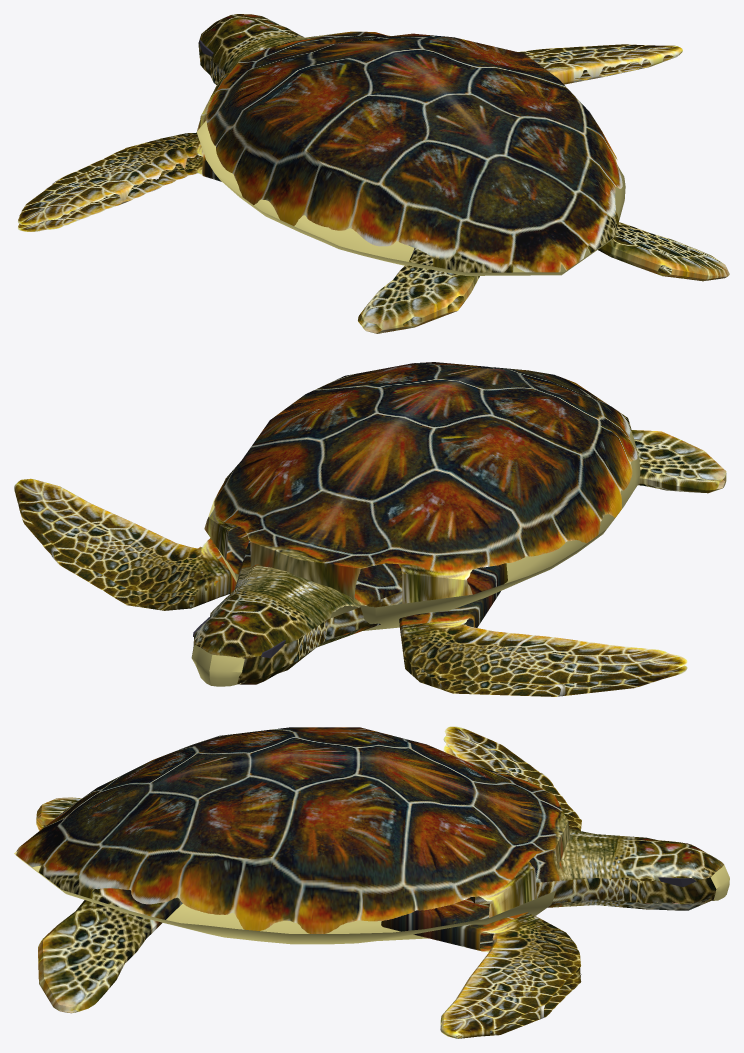
Rendered from AR_Species_GreenSeaTurtle.fbx.
3 views of the same model, one above another, from view 1: azimuth 30°, elevation 25°; view 2: azimuth 150°, elevation 25°; view 3: azimuth 270°, elevation 25° (orthographic).
Parts seen in each view (by area): view 1: Top Shell.001, L_Hand.001, L_Leg.001, Shell.003, R_Leg.001, R_Hand.001, Head.001; view 2: Top Shell.001, L_Hand.001, R_Hand.001, Head.001, Shell.003, L_Leg.001; view 3: Top Shell.001, R_Hand.001, Head.001, R_Leg.001, Shell.003, L_Hand.001, L_Leg.001.
Boxes of the visible parts, x1,y1,x2,y2 form: Top Shell.001: (197,31,622,272); L_Hand.001: (18,132,221,231); L_Leg.001: (358,248,479,333); Shell.003: (196,121,625,275); R_Leg.001: (598,222,729,281); R_Hand.001: (518,44,682,84); Head.001: (198,14,304,84); Top Shell.001: (204,362,637,603); L_Hand.001: (399,563,687,696); R_Hand.001: (14,478,248,610); Head.001: (191,540,402,686); Shell.003: (204,431,640,630); L_Leg.001: (631,430,726,493); Top Shell.001: (16,727,570,933); R_Hand.001: (381,898,581,1038); Head.001: (470,829,729,910); R_Leg.001: (38,888,182,1013); Shell.003: (14,851,563,944); L_Hand.001: (443,726,581,830); L_Leg.001: (36,797,81,830).
Size of the model in its own units: 474 by 113 by 439.
3 materials, 1 textured.
